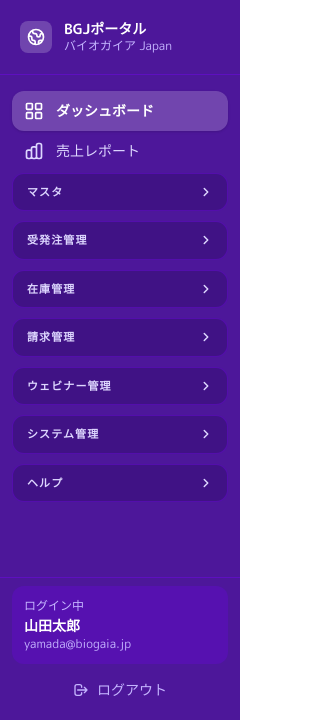
Test: BgjSidebar › マスタ・受発注管理・在庫管理・請求管理・ウェビナー管理・システム管理・ヘルプの各グループラベルを表示する
Expected: the text "マスタ" is shown, [27,184,63,200]
Expected: the text "受発注管理" is shown, [27,232,88,248]
Click the button with aria-label "マスタを開く".
click(120, 192)  # box [19,180,221,204]
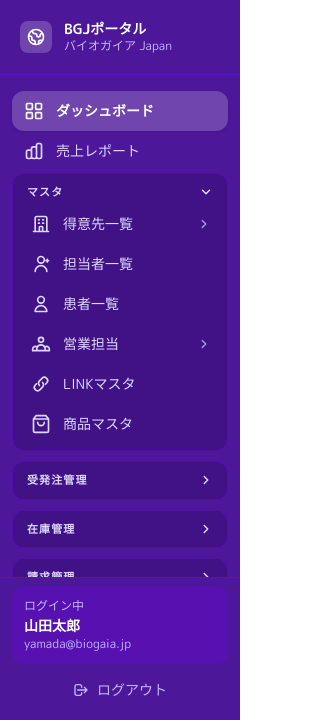
Expected: the text "LINKマスタ" is shown, [63,374,135,393]
